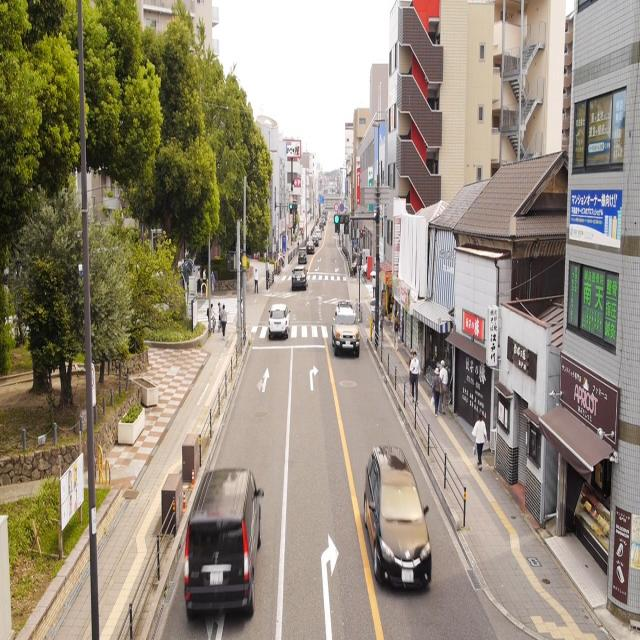Car: (360, 438, 435, 596), (332, 300, 362, 355), (265, 302, 292, 340), (288, 264, 310, 294), (296, 244, 309, 265), (305, 239, 316, 256)
Truck: (182, 460, 261, 624)
